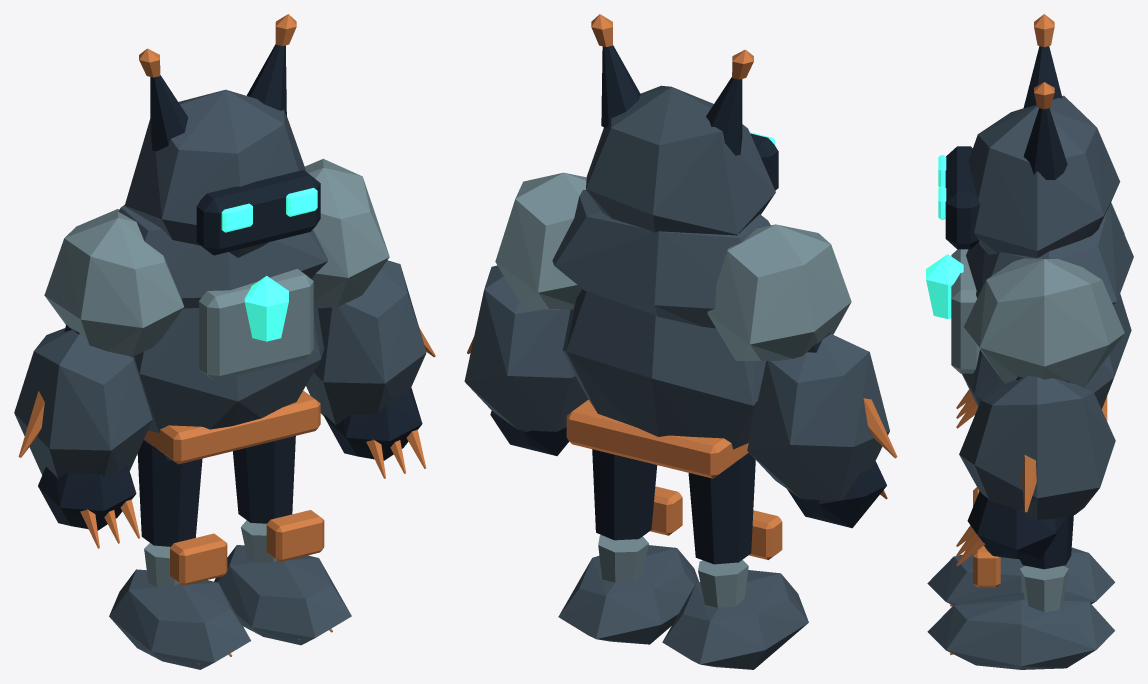
File: Riftling.gltf
The picture shows the model from 3 angles, left to right: view 1: azimuth 30°, elevation 25°; view 2: azimuth 150°, elevation 25°; view 3: azimuth 270°, elevation 25°; orthographic projection. The views are drawn at different scales.
Visible parts, largest first — view 1: Gauntlet_Mesh (×2), Shoulder_Mesh (×2), Boot_Mesh (×2), Head_Mesh, Body_Mesh, Thigh_Mesh (×2), Chest_Plate_Mesh, Fist_Mesh (×2), Shoulder_Carapace_Mesh, Face_Mask_Mesh, Belt_Mesh, Knee_Mesh (×2) (+5 smaller); view 2: Gauntlet_Mesh (×2), Shoulder_Mesh (×2), Body_Mesh, Head_Mesh, Boot_Mesh (×2), Shoulder_Carapace_Mesh, Thigh_Mesh (×2), Belt_Mesh, Fist_Mesh (×2), Shin_Mesh (×2), Horn_Mesh (×2), Knee_Mesh (×2) (+2 smaller); view 3: Gauntlet_Mesh, Head_Mesh, Shoulder_Mesh, Boot_Mesh (×2), Shoulder_Carapace_Mesh, Fist_Mesh, Horn_Mesh (×2), Face_Mask_Mesh, Body_Mesh, Chest_Plate_Mesh, Shin_Mesh, Heart_Mesh (+4 smaller).
Part boxes in pixels (<box>): Gauntlet_Mesh (×2): <box>14,260,426,478</box>; Shoulder_Mesh (×2): <box>44,158,389,357</box>; Boot_Mesh (×2): <box>109,545,351,669</box>; Head_Mesh: <box>124,89,306,257</box>; Body_Mesh: <box>134,307,323,460</box>; Thigh_Mesh (×2): <box>137,436,295,546</box>; Chest_Plate_Mesh: <box>199,268,313,380</box>; Fist_Mesh (×2): <box>38,387,422,530</box>; Shoulder_Carapace_Mesh: <box>118,205,328,308</box>; Face_Mask_Mesh: <box>196,170,320,255</box>; Belt_Mesh: <box>144,390,320,464</box>; Knee_Mesh (×2): <box>170,510,324,585</box>; Gauntlet_Mesh (×2): <box>464,265,889,500</box>; Shoulder_Mesh (×2): <box>495,172,851,360</box>; Body_Mesh: <box>562,289,766,449</box>; Head_Mesh: <box>586,85,775,235</box>; Boot_Mesh (×2): <box>558,545,808,669</box>; Shoulder_Carapace_Mesh: <box>552,190,770,328</box>; Thigh_Mesh (×2): <box>592,449,755,564</box>; Belt_Mesh: <box>566,399,748,478</box>; Fist_Mesh (×2): <box>490,411,886,528</box>; Shin_Mesh (×2): <box>598,535,748,607</box>; Horn_Mesh (×2): <box>601,45,742,155</box>; Knee_Mesh (×2): <box>650,486,782,559</box>; Gauntlet_Mesh: <box>959,375,1115,519</box>; Head_Mesh: <box>968,95,1120,258</box>; Shoulder_Mesh: <box>964,258,1124,387</box>; Boot_Mesh (×2): <box>927,547,1114,669</box>; Shoulder_Carapace_Mesh: <box>966,203,1133,304</box>; Fist_Mesh: <box>967,491,1065,559</box>; Horn_Mesh (×2): <box>1023,46,1067,179</box>; Face_Mask_Mesh: <box>945,146,979,249</box>; Body_Mesh: <box>962,294,1131,409</box>; Chest_Plate_Mesh: <box>951,249,979,373</box>; Shin_Mesh: <box>1020,565,1068,612</box>; Heart_Mesh: <box>926,254,963,318</box>.
Bounding box in the file's own units: 2.07 × 2.84 × 0.9057.
